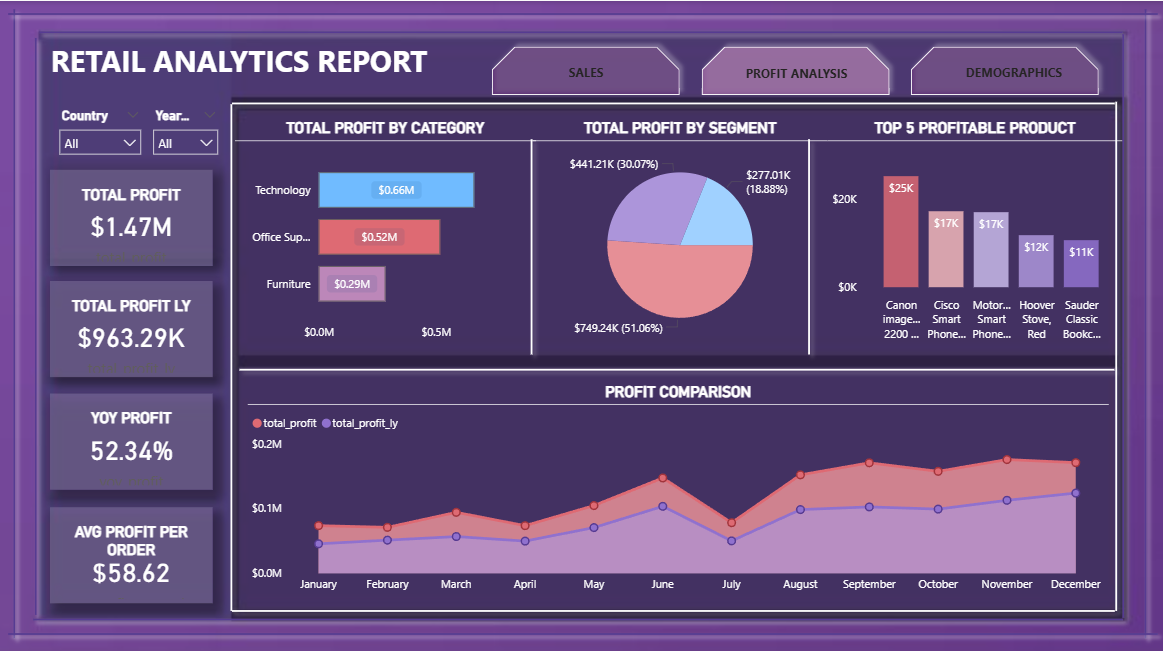

This screenshot's page, from the dashboard's own definition file:
{"tool":"powerbi","page":{"name":"PROFIT","canvas":[1280,720],"ordinal":1},"visuals":[{"type":"pageNavigator","box":[531.4,41.4,685.7,71.4],"z":0},{"type":"textbox","box":[550,64.3,190,35.7],"z":1000},{"type":"textbox","box":[780,65.7,190,35.7],"z":2000},{"type":"textbox","box":[1018.6,64.3,190,35.7],"z":3000},{"type":"card","title":"TOTAL PROFIT","fields":{"Values":["Calculated_Table.total_profit"]},"box":[54.3,185.7,178.6,105.7],"z":4000},{"type":"card","title":"TOTAL PROFIT LY","fields":{"Values":["Calculated_Table.total_profit_ly"]},"box":[54.3,307.1,178.6,105.7],"z":5000},{"type":"card","title":"YOY PROFIT","fields":{"Values":["Calculated_Table.yoy_profit"]},"box":[54.3,431.4,178.6,105.7],"z":6000},{"type":"card","title":"AVG PROFIT PER ORDER","fields":{"Values":["Calculated_Table.avg_profit_per_order"]},"box":[54.3,555.7,178.6,105.7],"z":7000},{"type":"clusteredBarChart","title":"TOTAL PROFIT BY CATEGORY","fields":{"Y":["Calculated_Table.total_profit"],"Category":["product_table.Category"]},"box":[258.6,128.6,330,251.4],"z":8000},{"type":"pieChart","title":"TOTAL PROFIT BY SEGMENT","fields":{"Y":["Calculated_Table.total_profit"],"Category":["customer_table.Segment"]},"box":[584.3,128.6,324.3,251.4],"z":9000},{"type":"clusteredColumnChart","title":"TOP 5 PROFITABLE PRODUCT","fields":{"Category":["product_table.Product Name"],"Y":["Calculated_Table.total_profit"]},"box":[908,129,324,251],"z":10000},{"type":"shape","box":[418.6,142.9,330,254.3],"z":11000},{"type":"shape","box":[722.9,142.9,330,254.3],"z":12000},{"type":"areaChart","title":"PROFIT COMPARISON","fields":{"Category":["date_table.Date.Variation.Date Hierarchy.Month"],"Y":["Calculated_Table.total_profit","Calculated_Table.total_profit_ly"]},"box":[271.4,418.6,945.7,238.6],"z":13000},{"type":"shape","box":[215.7,104.3,77.1,574.3],"z":14000},{"type":"shape","box":[245.7,95.7,987.1,32.9],"z":15000},{"type":"shape","box":[254.3,388.6,978.6,32.9],"z":16000},{"type":"shape","box":[1208.6,101.4,32.9,577.1],"z":17000},{"type":"shape","box":[245.7,652.9,987.1,32.9],"z":18000},{"type":"shape","box":[0,31.4,78.6,651.4],"z":19000},{"type":"shape","box":[34.3,13.1,1207.1,41.4],"z":20000},{"type":"shape","box":[27.1,648.6,1214.3,60],"z":21000},{"type":"shape","box":[1194.3,27.1,78.6,658.6],"z":22000},{"type":"shape","box":[1241.4,0,31.4,708.6],"z":23000},{"type":"shape","box":[0,0,31.4,708.6],"z":24000},{"type":"shape","box":[0,0,1280,28.6],"z":25000},{"type":"shape","box":[0,680,1280,28.6],"z":26000},{"type":"slicer","fields":{"Values":["date_table.Date.Variation.Date Hierarchy.Year","date_table.Date.Variation.Date Hierarchy.Month"]},"box":[157.1,112.9,91.4,55.7],"z":27000},{"type":"slicer","fields":{"Values":["location_table.Country"]},"box":[54.3,112.9,110,55.7],"z":28000},{"type":"textbox","box":[51.4,38.6,480,90],"z":29000}]}

Visuals, with their boxes in screenshot pixels (x1, y1, x2, y2), scaled from the page's 1280x720 canvas onto the 1163x651 screenshot:
pageNavigator: detection(483, 37, 1106, 102)
textbox: detection(500, 58, 672, 90)
textbox: detection(709, 59, 881, 92)
textbox: detection(925, 58, 1098, 90)
"TOTAL PROFIT" card: detection(49, 168, 212, 263)
"TOTAL PROFIT LY" card: detection(49, 278, 212, 373)
"YOY PROFIT" card: detection(49, 390, 212, 486)
"AVG PROFIT PER ORDER" card: detection(49, 502, 212, 598)
"TOTAL PROFIT BY CATEGORY" clusteredBarChart: detection(235, 116, 535, 344)
"TOTAL PROFIT BY SEGMENT" pieChart: detection(531, 116, 826, 344)
"TOP 5 PROFITABLE PRODUCT" clusteredColumnChart: detection(825, 117, 1119, 344)
shape: detection(380, 129, 680, 359)
shape: detection(657, 129, 957, 359)
"PROFIT COMPARISON" areaChart: detection(247, 378, 1106, 594)
shape: detection(196, 94, 266, 614)
shape: detection(223, 87, 1120, 116)
shape: detection(231, 351, 1120, 381)
shape: detection(1098, 92, 1128, 613)
shape: detection(223, 590, 1120, 620)
shape: detection(0, 28, 71, 617)
shape: detection(31, 12, 1128, 49)
shape: detection(25, 586, 1128, 641)
shape: detection(1085, 25, 1157, 620)
shape: detection(1128, 0, 1156, 641)
shape: detection(0, 0, 29, 641)
shape: detection(0, 0, 1162, 26)
shape: detection(0, 615, 1162, 641)
slicer - date_table.Date.Variation.Date Hierarchy.Year x date_table.Date.Variation.Date Hierarchy.Month: detection(143, 102, 226, 152)
slicer - location_table.Country: detection(49, 102, 149, 152)
textbox: detection(47, 35, 483, 116)
